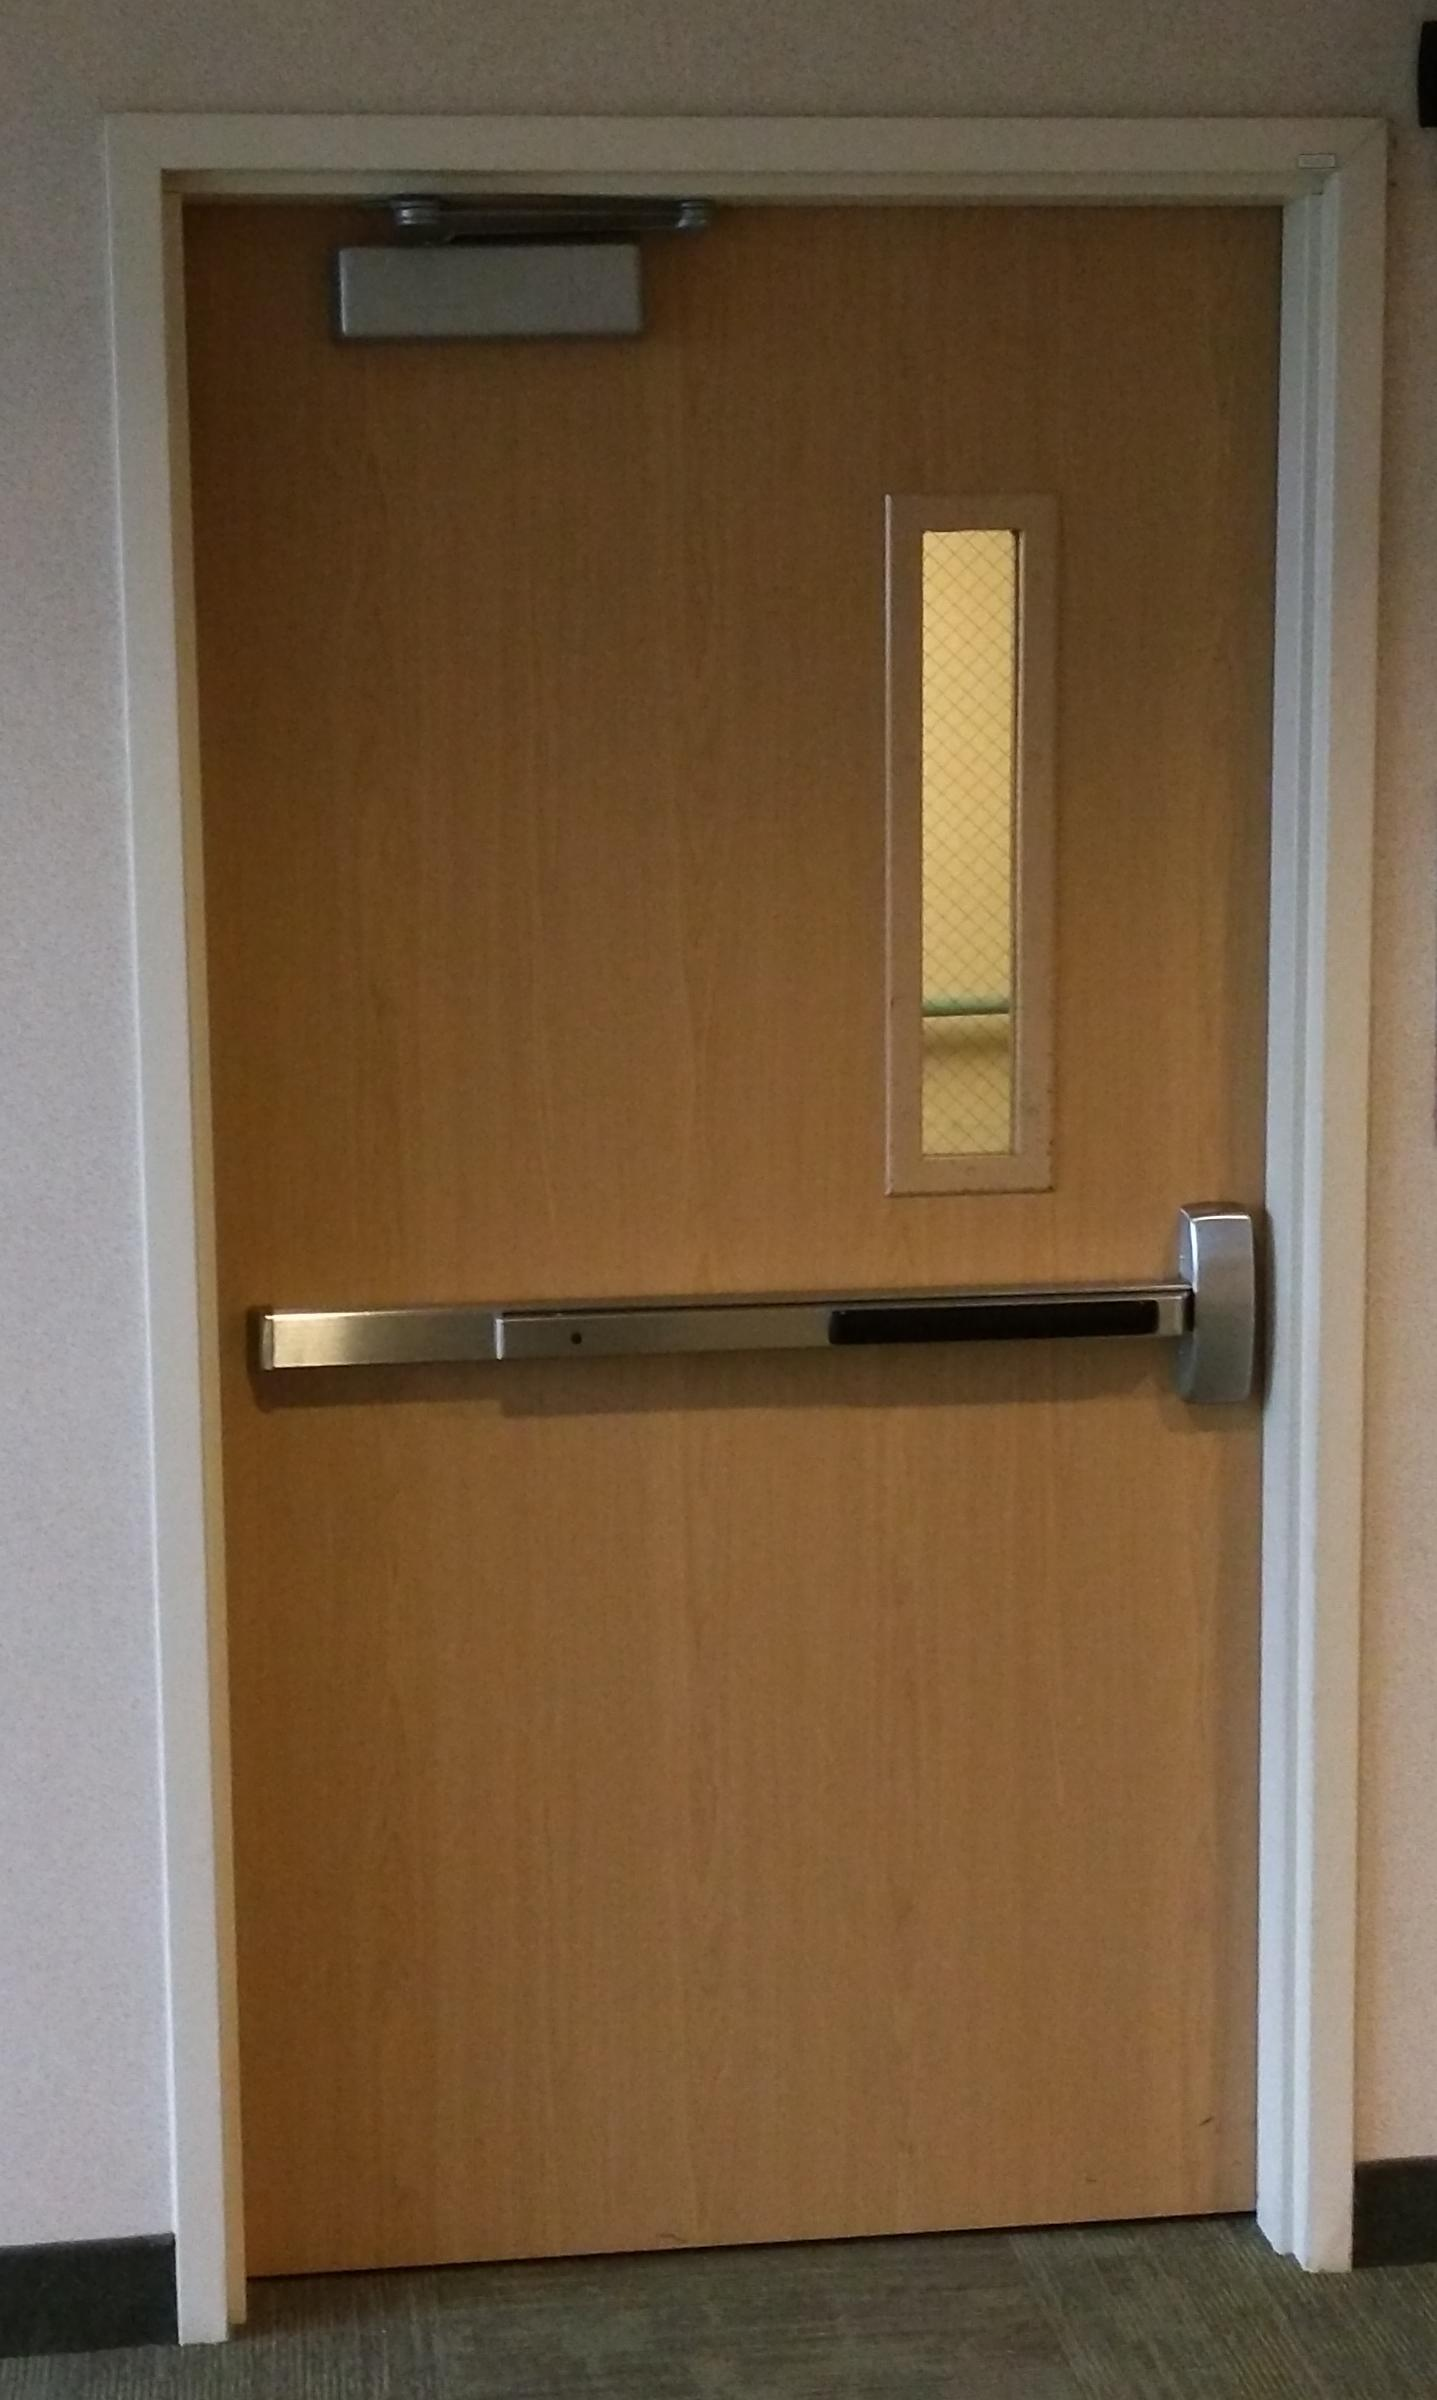door: (103, 111, 1394, 2344)
